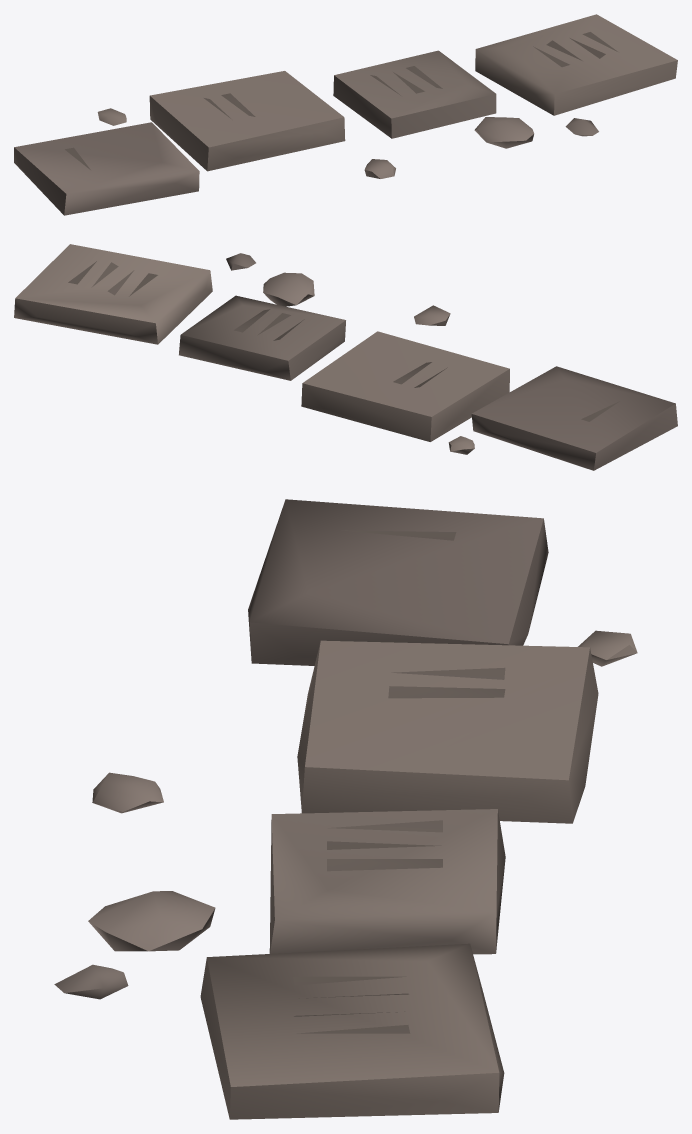
File: stair_stones_a_lod2.glb
3 views of the same model, one above another, from view 1: azimuth 30°, elevation 25°; view 2: azimuth 150°, elevation 25°; view 3: azimuth 270°, elevation 25° (orthographic). The views are drawn at different scales.
Visible parts, largest first — view 1: Surface.001; view 2: Surface.001; view 3: Surface.001.
Part boxes in pixels (x1,y1,x2,y2): Surface.001: (14, 14, 677, 215); Surface.001: (14, 244, 677, 470); Surface.001: (54, 499, 637, 1119).
Bounding box in the file's own units: 3.35 × 0.1838 × 1.41.
